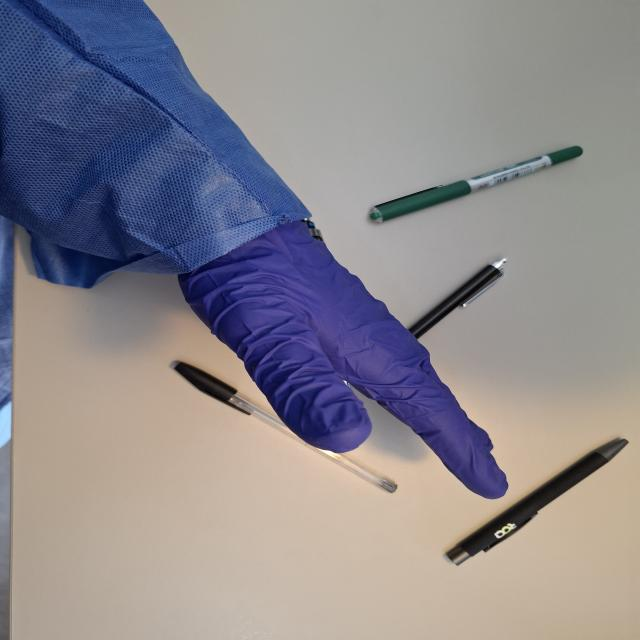glove_on: (170, 211, 513, 502)
